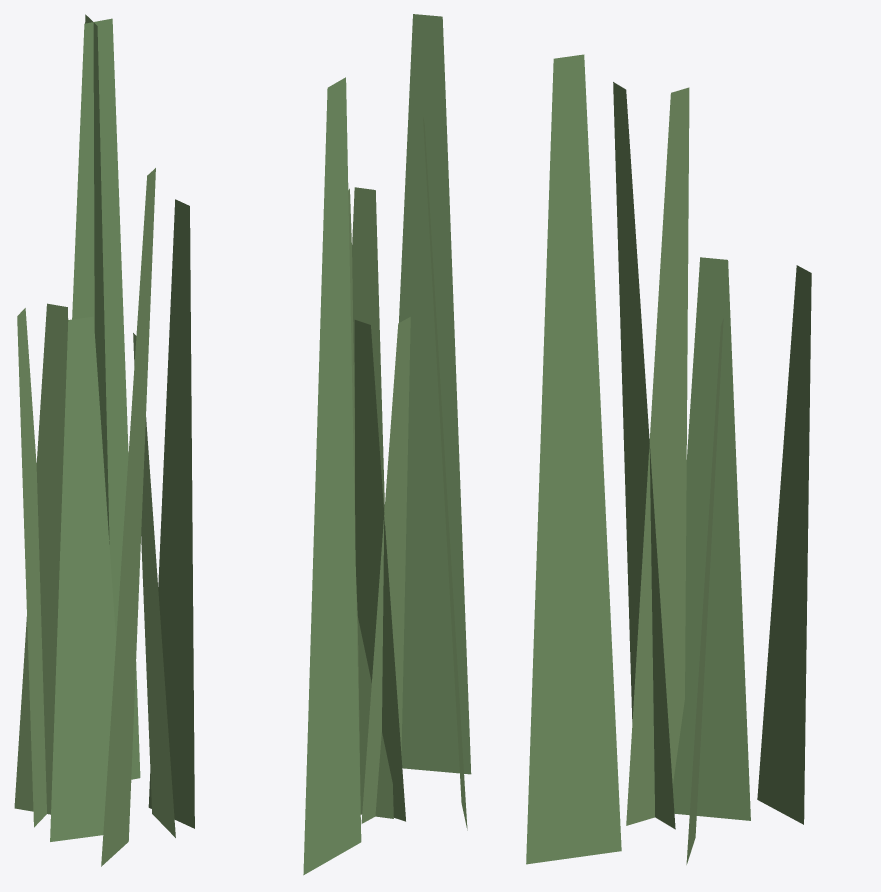
File: shui.pucao@subadult__bloom.glb
3 renders of one model, left to right at view 1: azimuth 30°, elevation 25°; view 2: azimuth 150°, elevation 25°; view 3: azimuth 270°, elevation 25°, orthographic. The views are drawn at different scales.
Parts seen in each view (by area): view 1: shui.pucao@subadult__bloom; view 2: shui.pucao@subadult__bloom; view 3: shui.pucao@subadult__bloom.
Boxes of the visible parts, x1,y1,x2,y2 form: shui.pucao@subadult__bloom: (14,14,194,866); shui.pucao@subadult__bloom: (303,14,471,875); shui.pucao@subadult__bloom: (526,54,811,864).
Size of the model in its own units: 0.2395 by 1.16 by 0.4332.
